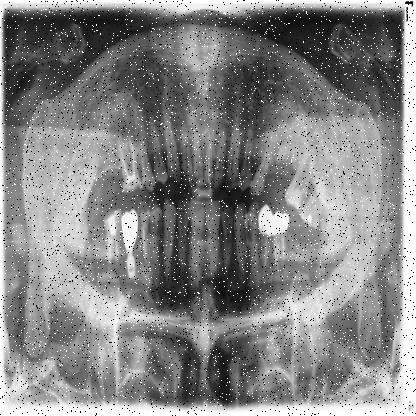Bicon: (126, 254, 138, 284)
